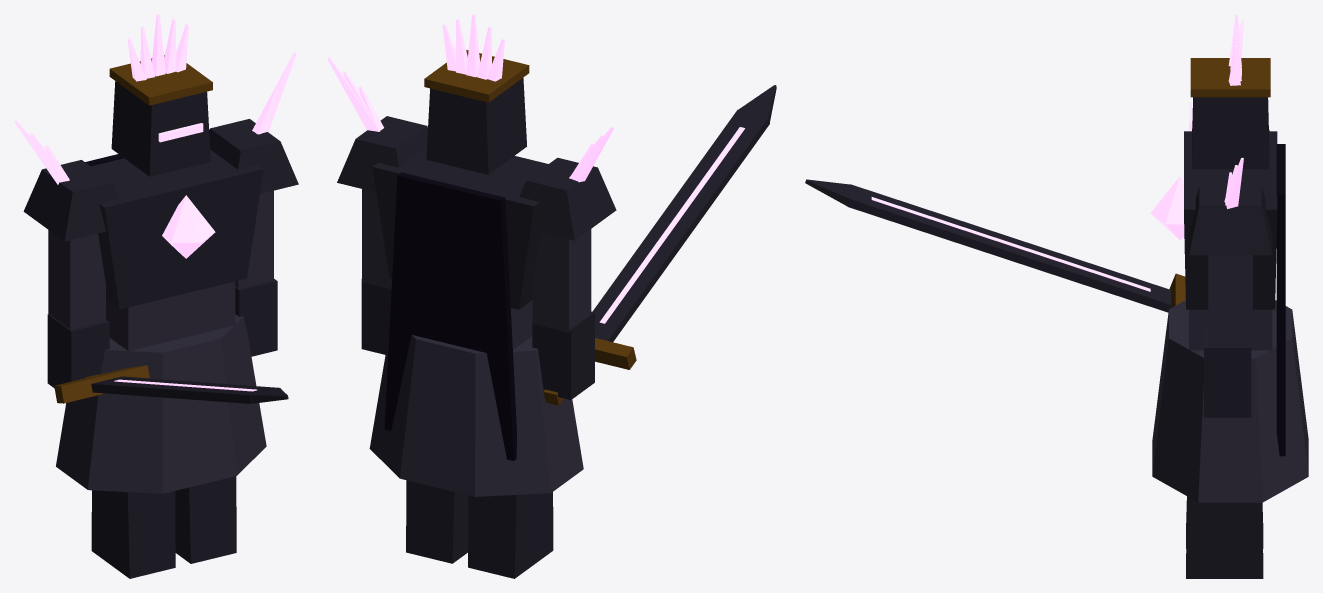
File: SoberanoVidroNegro.fbx
3 renders of one model, left to right at view 1: azimuth 30°, elevation 25°; view 2: azimuth 150°, elevation 25°; view 3: azimuth 270°, elevation 25°, orthographic.
Visible parts, largest first — view 1: Body, ArmR, Head, ArmL, LegR, LegL; view 2: Body, ArmR, Head, ArmL, LegR, LegL; view 3: Body, ArmL, Head, ArmR, LegL.
Part boxes in pixels (x1=…): Body: x1=56, y1=150, x2=266, y2=493; ArmR: x1=14, y1=120, x2=288, y2=403; Head: x1=109, y1=14, x2=212, y2=176; ArmL: x1=209, y1=52, x2=298, y2=356; LegR: x1=91, y1=333, x2=175, y2=578; LegL: x1=175, y1=476, x2=236, y2=563; Body: x1=369, y1=147, x2=583, y2=496; ArmR: x1=519, y1=85, x2=776, y2=405; Head: x1=424, y1=14, x2=529, y2=174; ArmL: x1=327, y1=57, x2=427, y2=354; LegR: x1=468, y1=492, x2=553, y2=578; LegL: x1=406, y1=480, x2=468, y2=563; Body: x1=1150, y1=131, x2=1308, y2=502; ArmL: x1=1189, y1=157, x2=1272, y2=417; Head: x1=1189, y1=14, x2=1270, y2=169; ArmR: x1=805, y1=20, x2=1269, y2=312; LegL: x1=1186, y1=345, x2=1263, y2=578.
Bounding box in the file's own units: 1.11 × 2 × 1.7.
